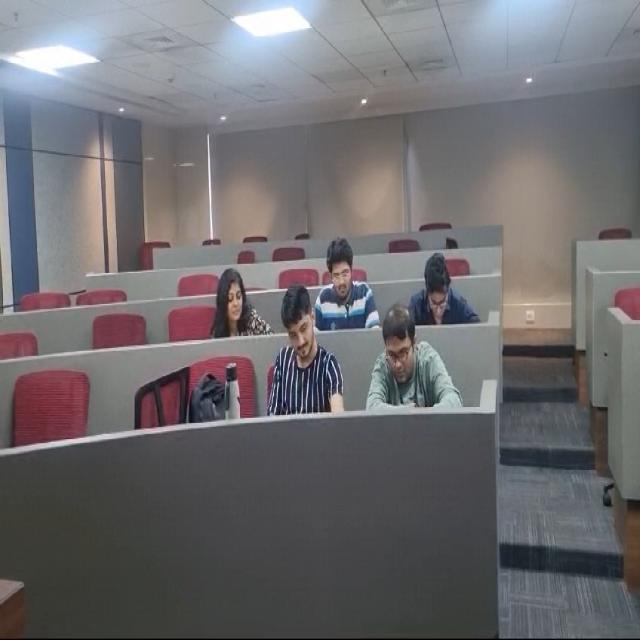cheating: (269, 286, 332, 418), (368, 308, 439, 408)
non-cheating: (314, 234, 386, 328), (407, 246, 482, 328), (213, 260, 260, 339)
